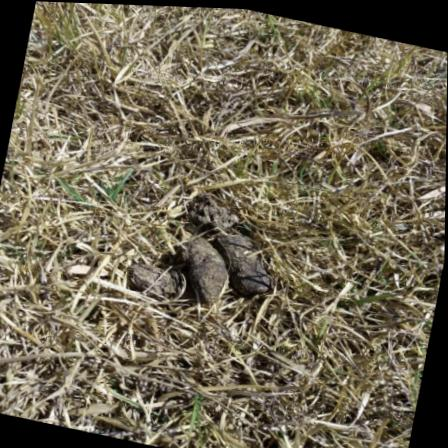dog-poop: (120, 176, 291, 329)
